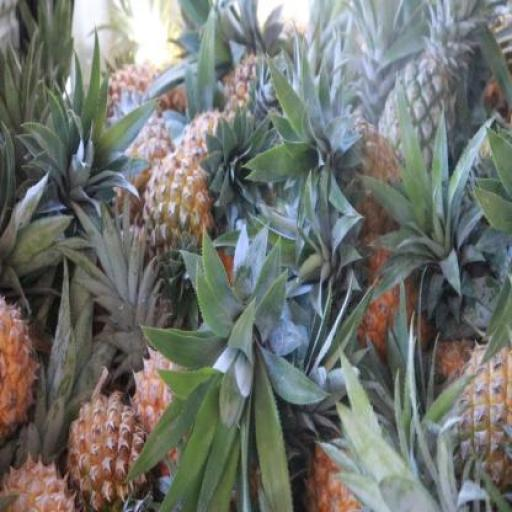------------------------------: (141, 150, 209, 282)
Pineapple - v8 v1: (66, 394, 142, 512), (2, 291, 40, 443)
